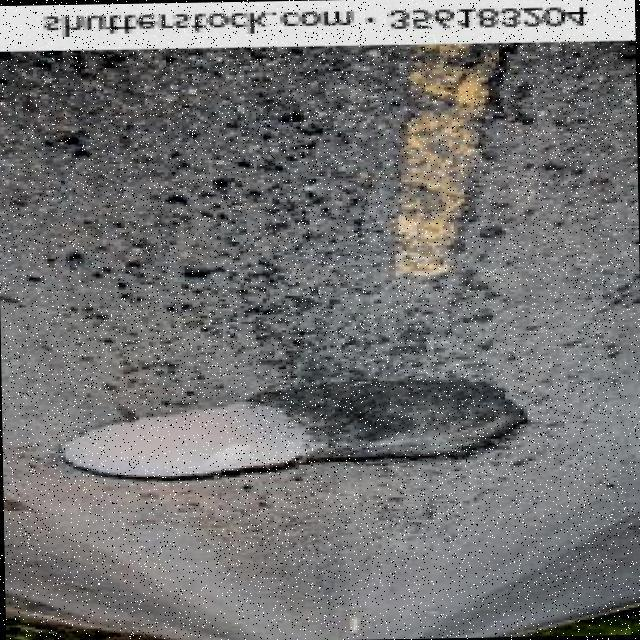Pothole: (56, 377, 524, 481)
